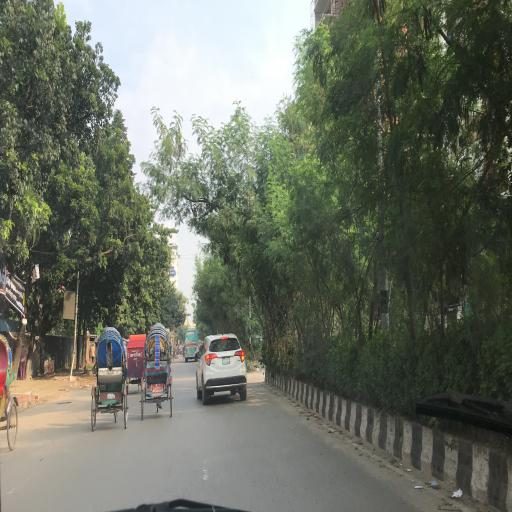bus: (185, 331, 199, 364)
rickshaw: (91, 328, 130, 433), (142, 323, 174, 422), (1, 332, 20, 459)
suv: (198, 336, 249, 406)
